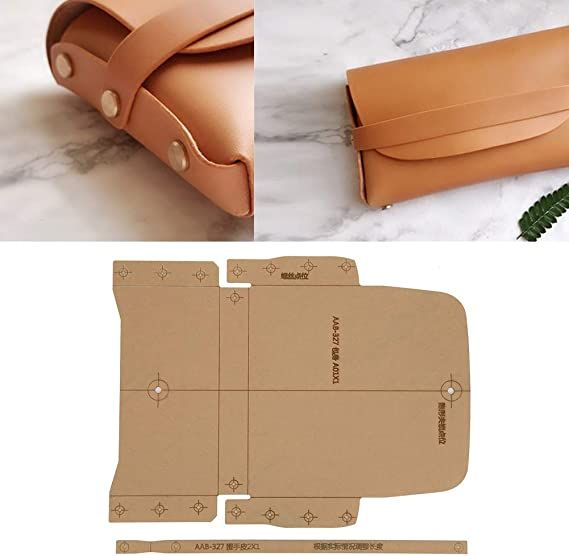cuero: (47, 1, 569, 219)
